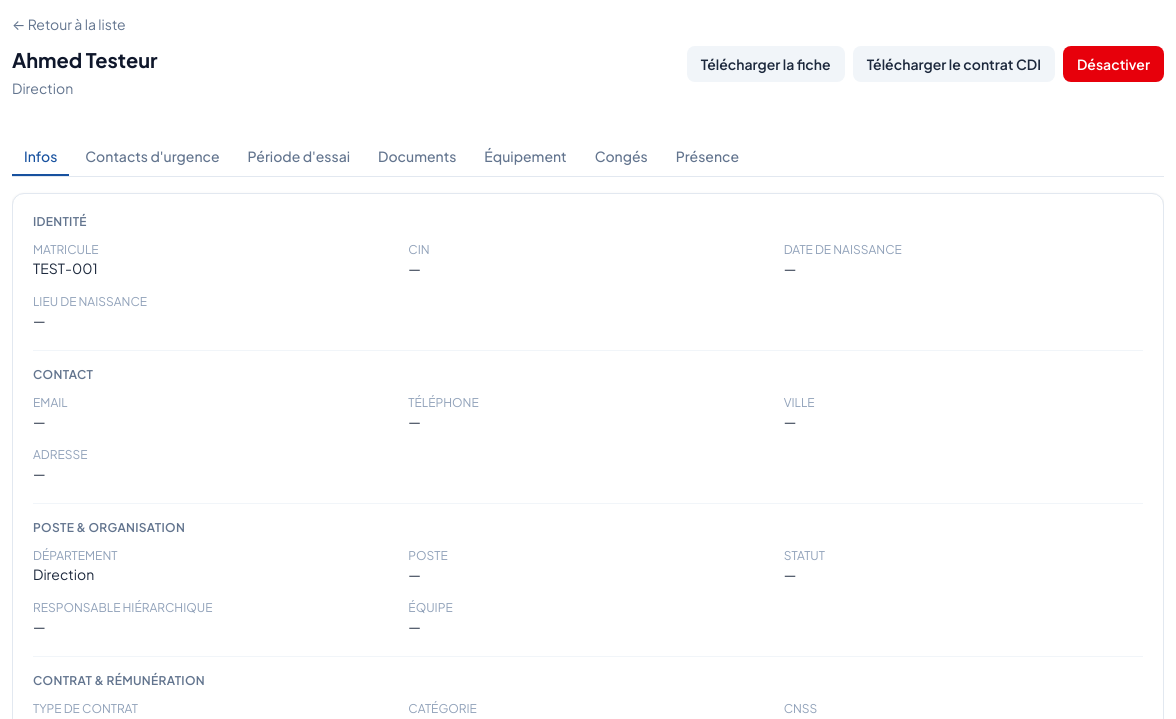
Test case: EmployeeDetailPage › lists uploaded documents on the Documents tab
Expected: the heading "Ahmed Testeur" is shown, [12,46,158,74]
Click the button "Documents" at (417, 157), box [366,138,468,176]
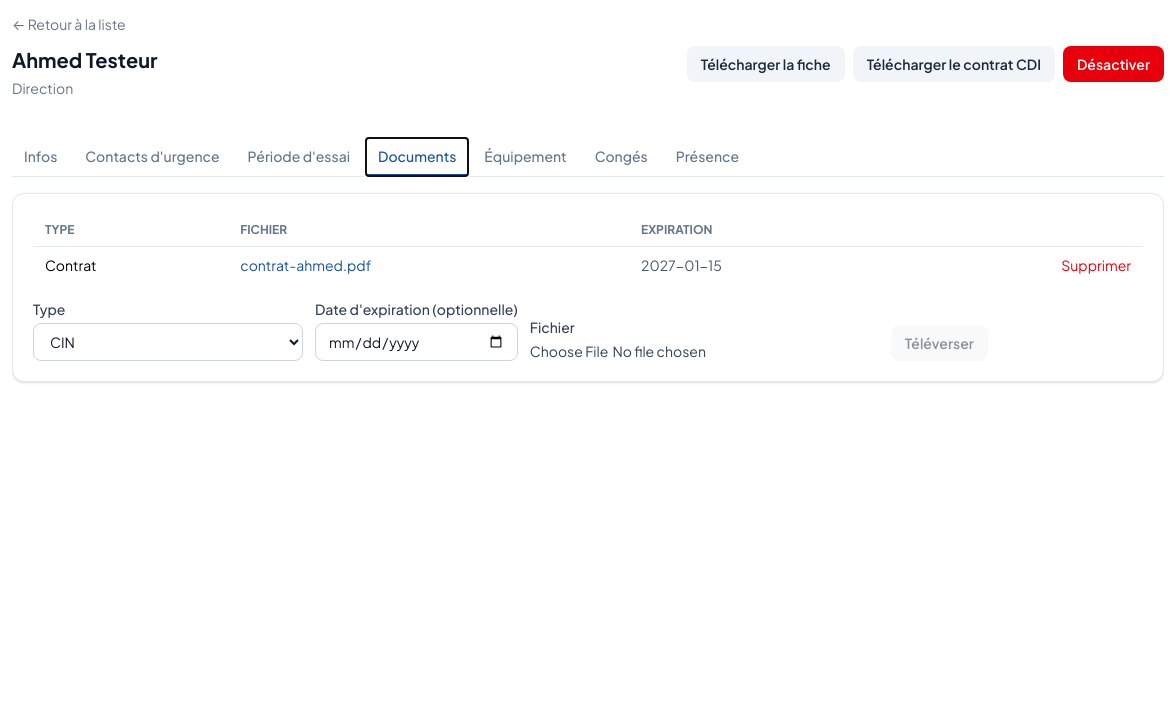
Now the link "contrat-ahmed.pdf" is shown, box [240,256,371,274]
